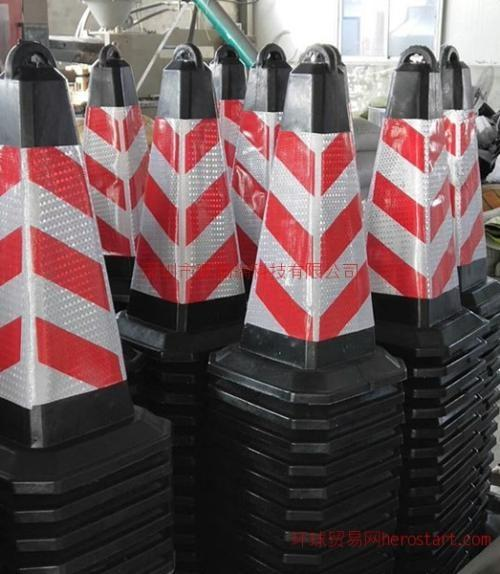cone_barrel: (232, 44, 377, 372), (128, 52, 249, 368), (364, 43, 468, 341), (80, 54, 157, 276), (437, 44, 493, 300)
